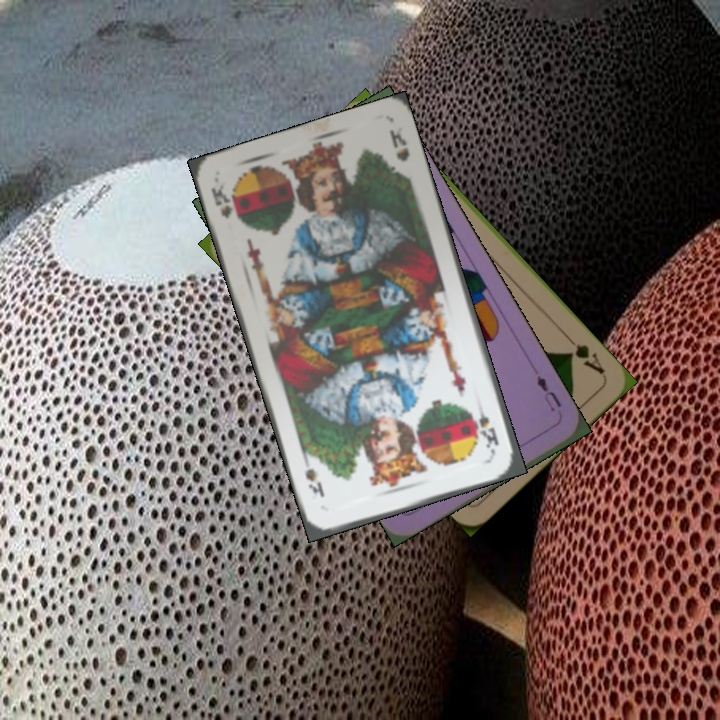EU: (532, 371, 564, 415)
GA: (562, 331, 608, 378)
SK: (473, 398, 502, 456), (207, 181, 242, 223)
